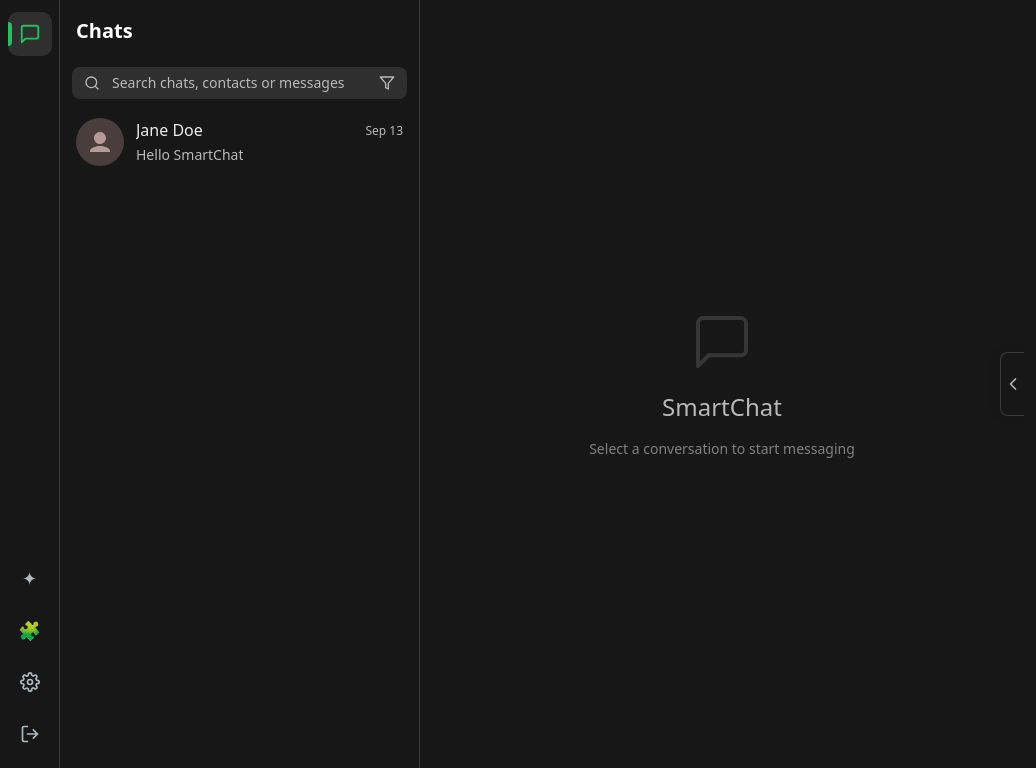
Test case: ChatLayout › toggles message search sidebar when clicking header search icon
This screenshot has width=1036, height=768.
What coordinates should you click on to do the following:
click the text "Jane Doe"
I would click on:
 (169, 130)
Its box is [136,119,203,141].
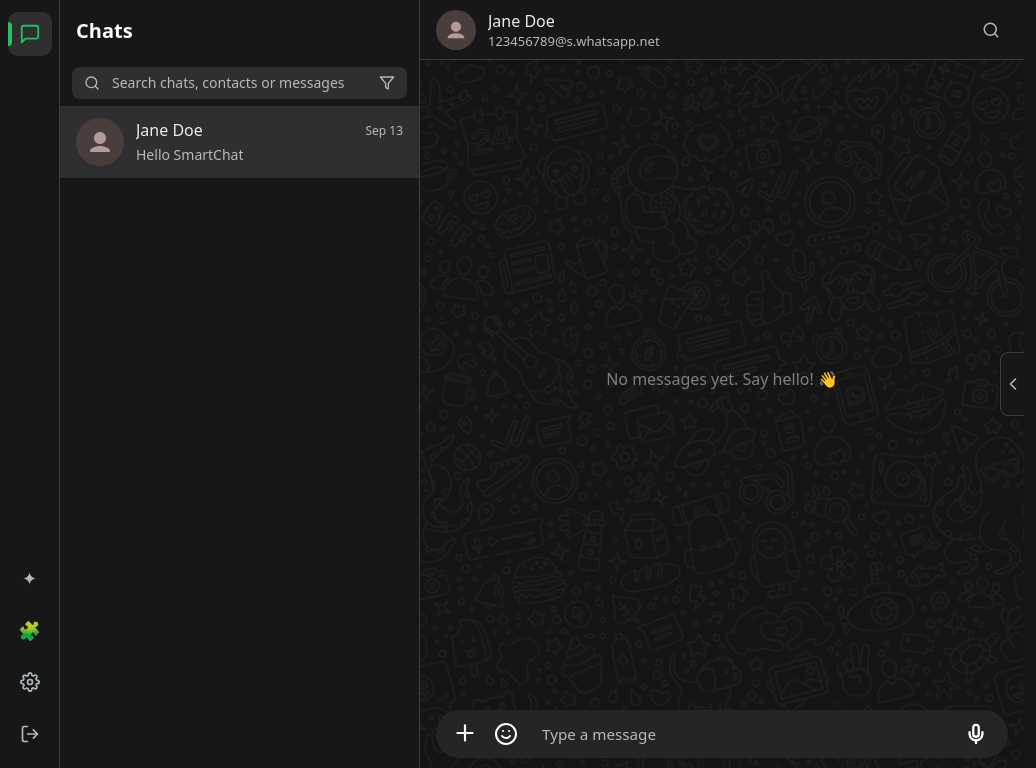
What coordinates should you click on to do the following:
click the button titled "Search messages"
I would click on:
 (991, 30)
Its box is [974,12,1008,46].
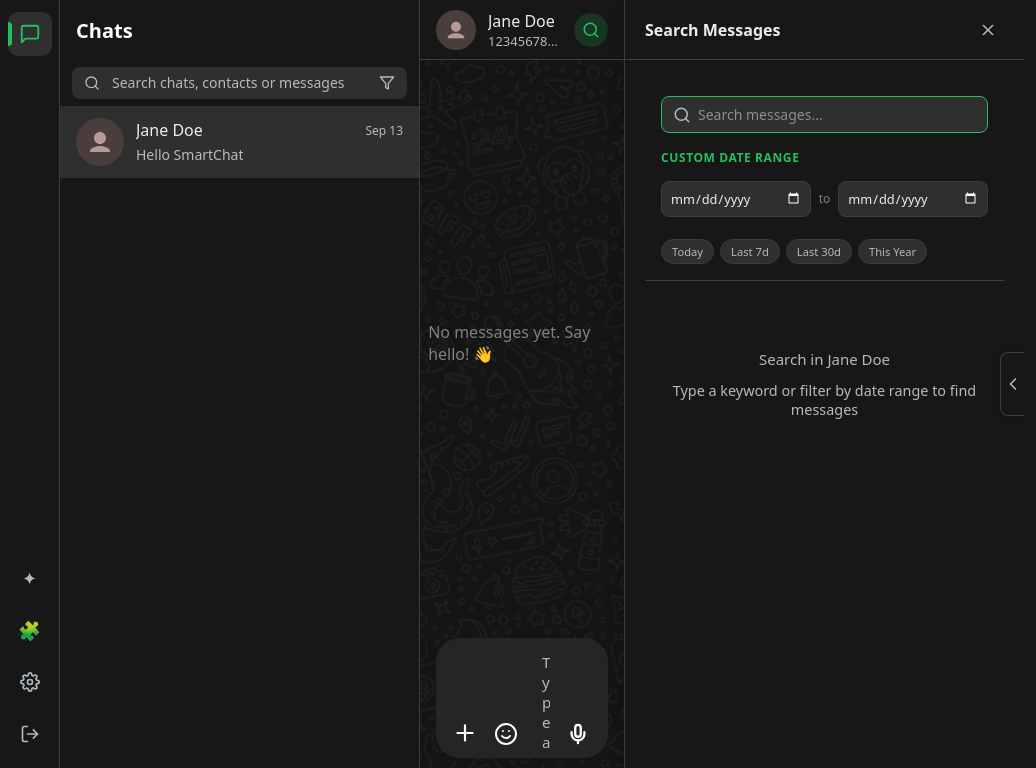
Expected: the field with placeholder "Search messages..." is shown, [661,96,988,133]
